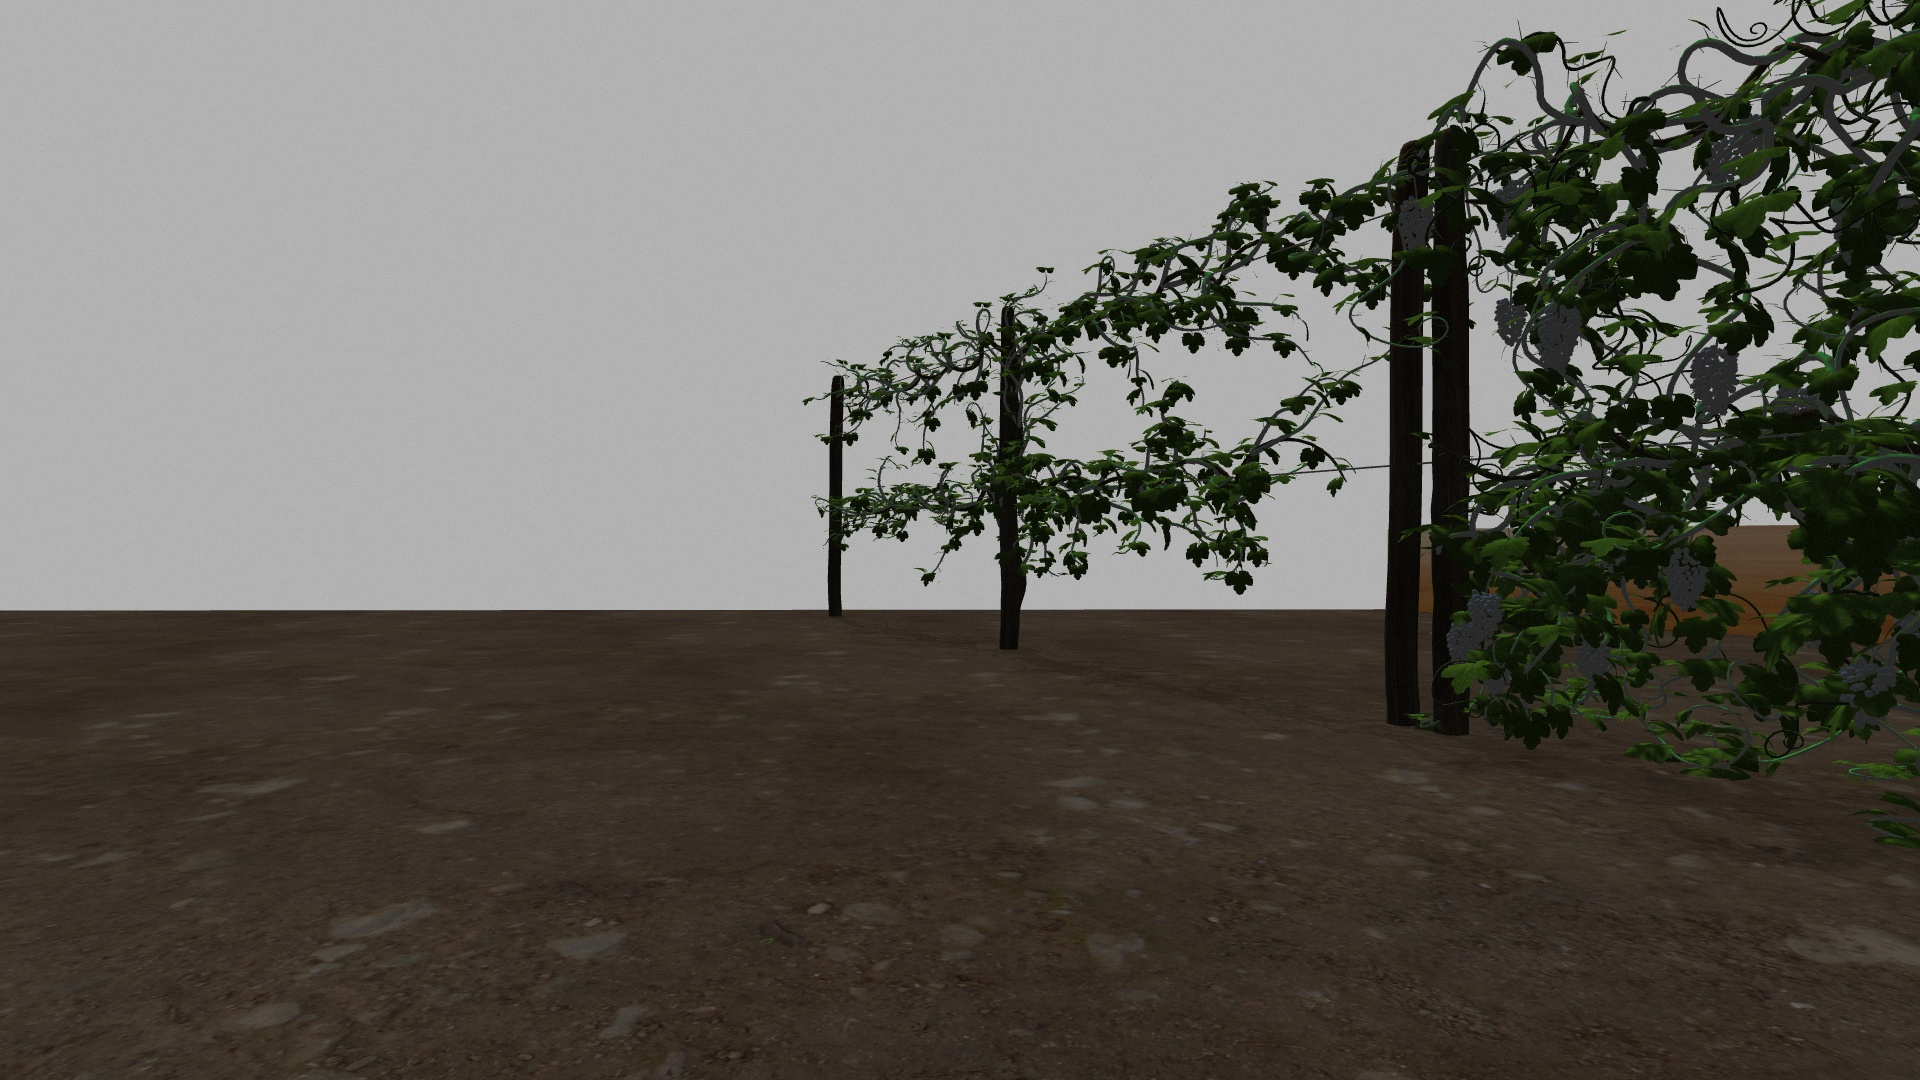grape: (1691, 345, 1741, 418), (1538, 302, 1581, 376), (1662, 549, 1709, 613), (1842, 655, 1896, 698), (1396, 198, 1433, 251), (1702, 138, 1745, 183), (1575, 636, 1613, 684), (1491, 298, 1528, 345), (1468, 591, 1503, 638), (1447, 626, 1481, 665)
